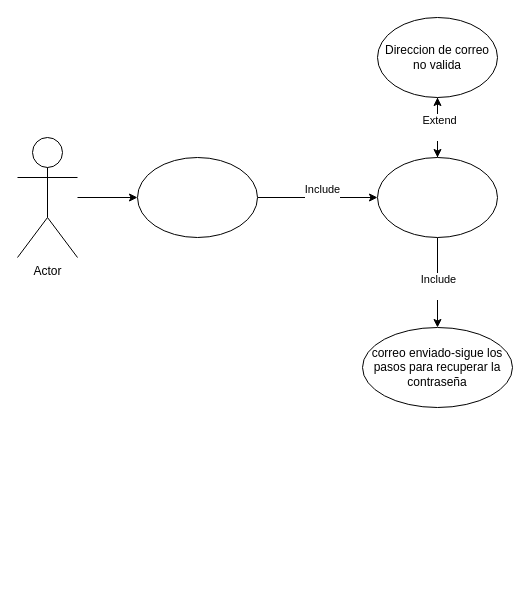
The diagram is 530 pixels wide and 603 high, and some of its shapes have lost their labels. Each missing label, with the centre of its shape:
ingrese correo: [437,197]
recuperar contraseña: [197,197]
